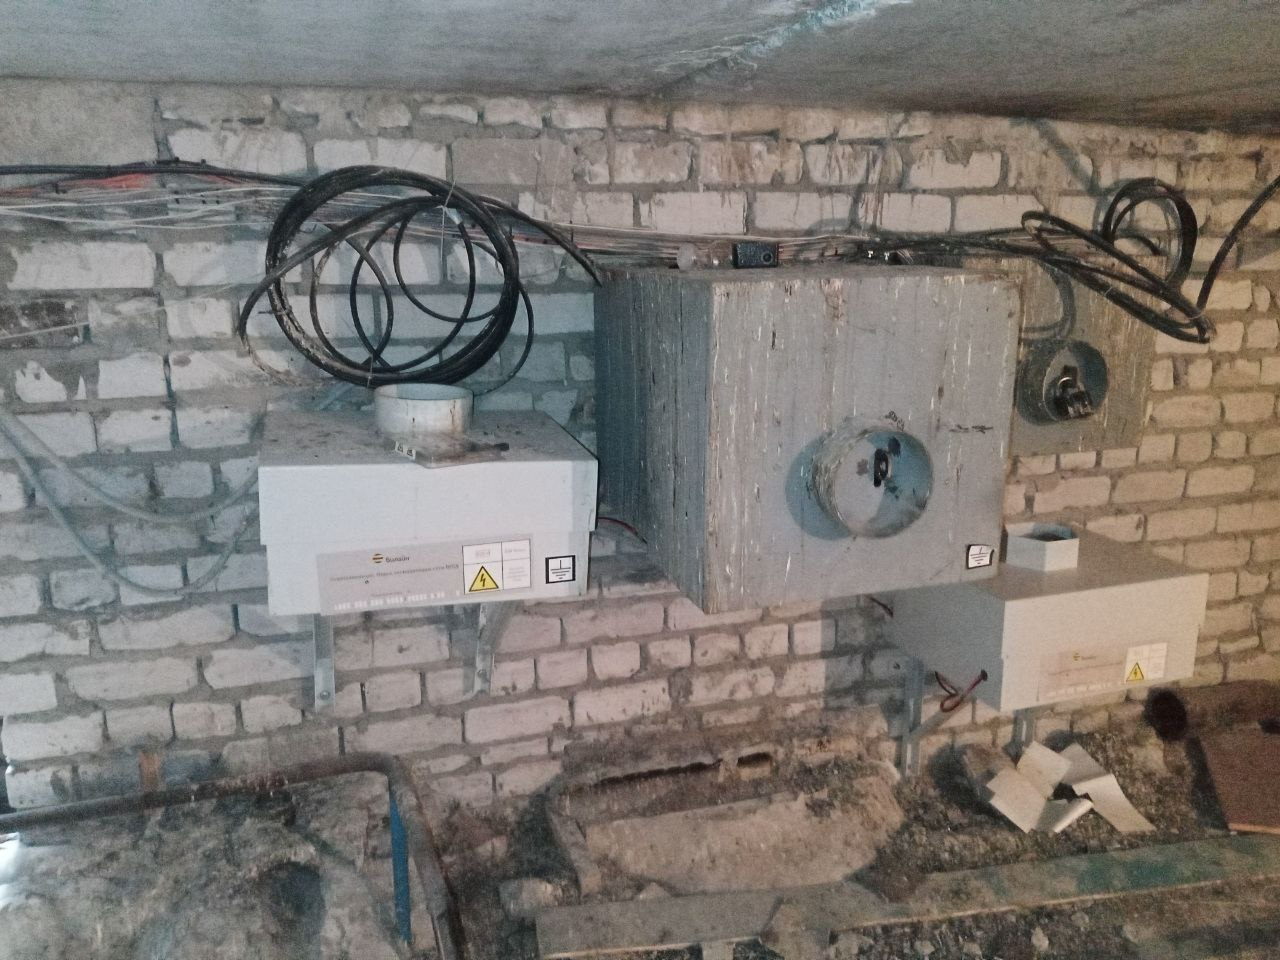shta-3: (921, 216, 1169, 464)
shta-9: (580, 225, 1011, 626)
shta-ps: (239, 365, 614, 629), (841, 497, 1228, 722)
